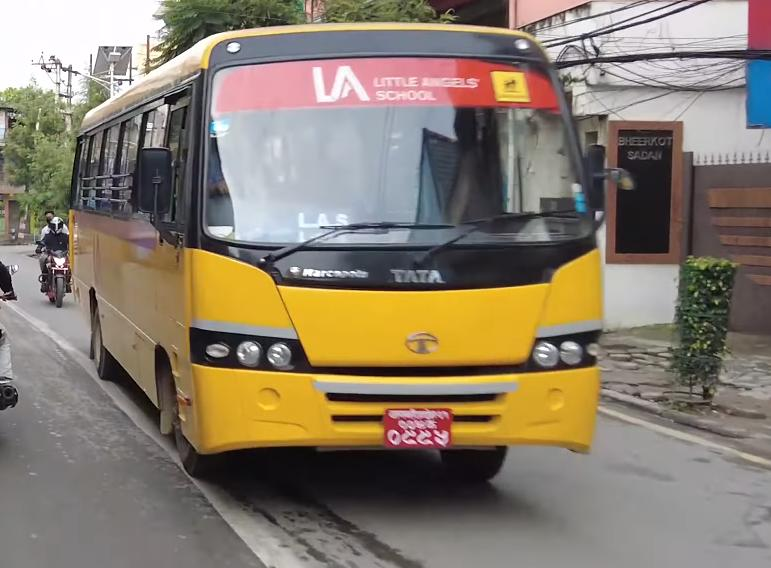bike: (32, 236, 74, 307)
school_bus: (70, 16, 612, 503)
